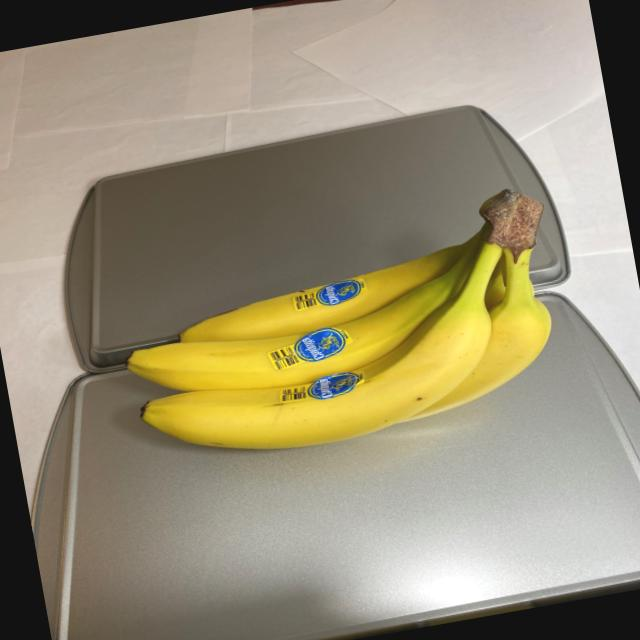banana: (105, 180, 585, 474)
